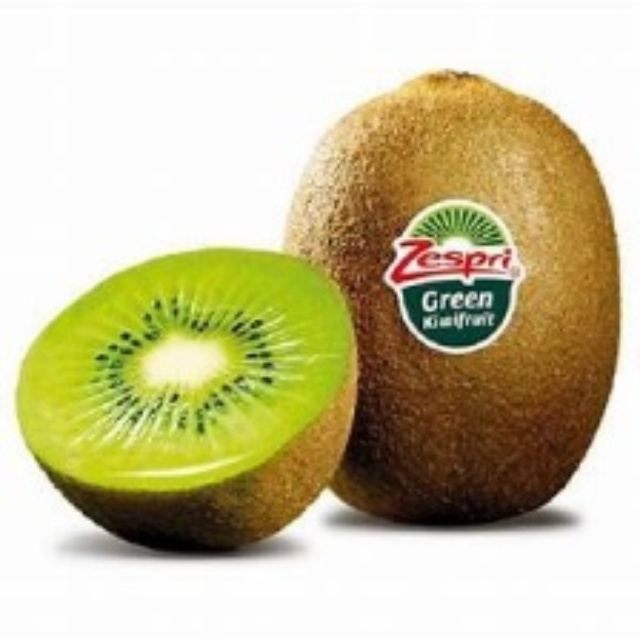kiwi: (292, 70, 611, 550), (29, 244, 342, 573)
